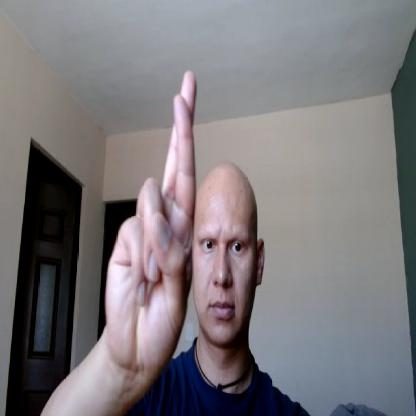R: (107, 69, 198, 368)
